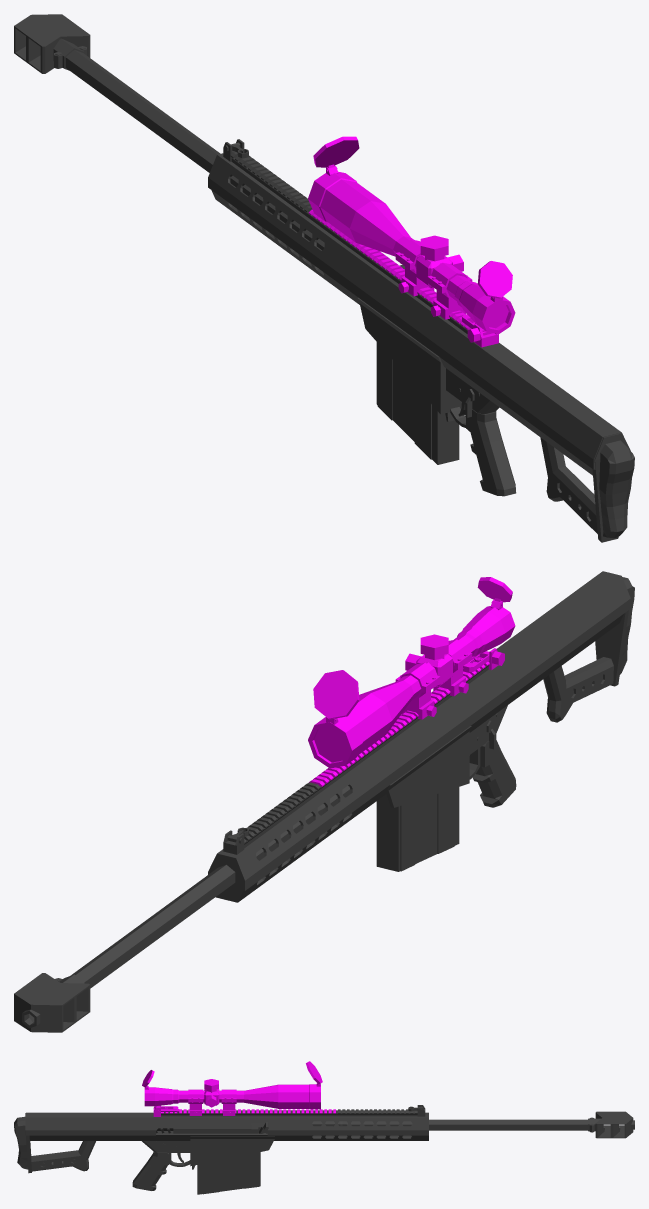
The model's file is sniper_2.glb.
3 renders of one model, top to bottom at view 1: azimuth 30°, elevation 25°; view 2: azimuth 150°, elevation 25°; view 3: azimuth 270°, elevation 25°, orthographic. The views are drawn at different scales.
Parts seen in each view (by area): view 1: p8_paint, p45_cut, p3_paint, p61_paint, p55_paint, p1_paint, p151_paint, p121_paint, p147_paint, p9_paint, p13_paint, p137_cut (+4 smaller); view 2: p8_paint, p61_paint, p3_paint, p45_cut, p55_paint, p1_paint, p147_paint, p9_paint, p121_paint, p36_cut, p39_cut, p13_paint (+3 smaller); view 3: p8_paint, p3_paint, p45_cut, p9_paint, p61_paint, p55_paint, p13_paint, p147_paint, p1_paint, p57_paint, p121_paint, p151_paint (+2 smaller).
Part boxes in pixels (x1,y1,x2,y2): p8_paint: [208, 153, 630, 469]; p45_cut: [320, 179, 515, 334]; p3_paint: [53, 38, 324, 249]; p61_paint: [376, 342, 459, 464]; p55_paint: [357, 297, 461, 414]; p1_paint: [14, 14, 90, 73]; p151_paint: [599, 440, 634, 538]; p121_paint: [466, 409, 516, 496]; p147_paint: [540, 437, 597, 533]; p9_paint: [211, 190, 592, 475]; p13_paint: [231, 157, 468, 333]; p137_cut: [477, 261, 512, 298]; p8_paint: [208, 571, 630, 890]; p61_paint: [376, 787, 459, 871]; p3_paint: [59, 786, 350, 988]; p45_cut: [345, 606, 515, 754]; p55_paint: [386, 726, 471, 807]; p1_paint: [14, 973, 90, 1032]; p147_paint: [543, 657, 613, 722]; p9_paint: [215, 614, 623, 902]; p121_paint: [472, 734, 516, 807]; p36_cut: [313, 670, 359, 719]; p39_cut: [308, 717, 362, 768]; p13_paint: [244, 665, 488, 847]; p8_paint: [26, 1112, 428, 1135]; p3_paint: [312, 1118, 604, 1131]; p45_cut: [144, 1084, 308, 1108]; p9_paint: [29, 1131, 428, 1140]; p61_paint: [197, 1133, 260, 1194]; p55_paint: [190, 1136, 274, 1166]; p13_paint: [161, 1110, 417, 1116]; p147_paint: [31, 1141, 95, 1171]; p1_paint: [595, 1111, 633, 1138]; p57_paint: [173, 1122, 267, 1133]; p121_paint: [132, 1151, 168, 1190]; p151_paint: [14, 1116, 28, 1169].
Bounding box in the file's own units: 0.0853 × 0.334 × 1.45.
